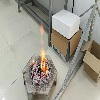fire: (40, 23, 48, 77), (31, 59, 34, 65)
